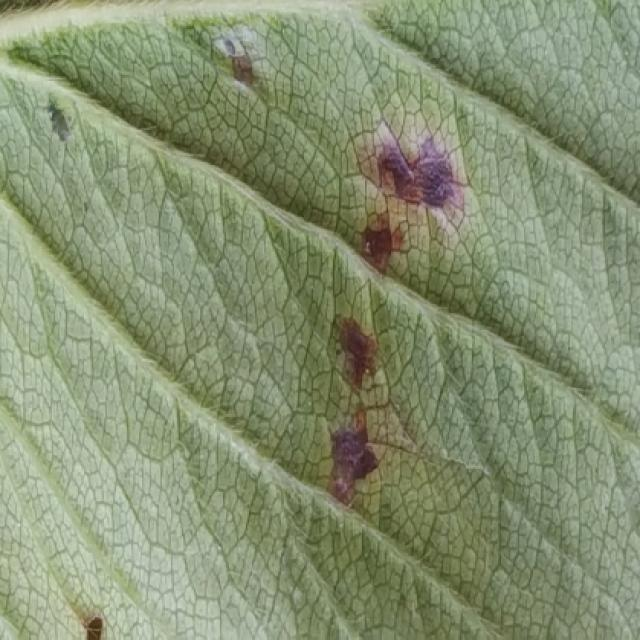Angular Leafspot: (35, 21, 493, 526)
